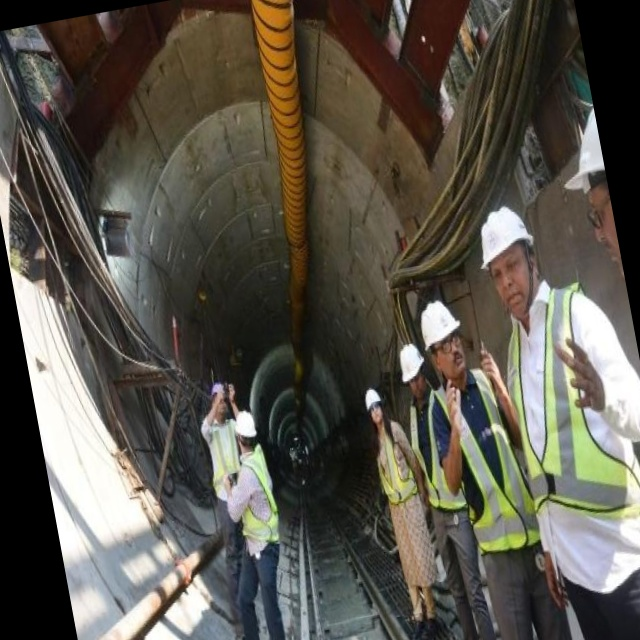Con_Casco: (472, 201, 547, 306), (419, 297, 469, 373)
Con_Chaleco: (494, 289, 640, 537), (431, 365, 534, 552), (228, 450, 286, 551), (368, 426, 417, 517)
